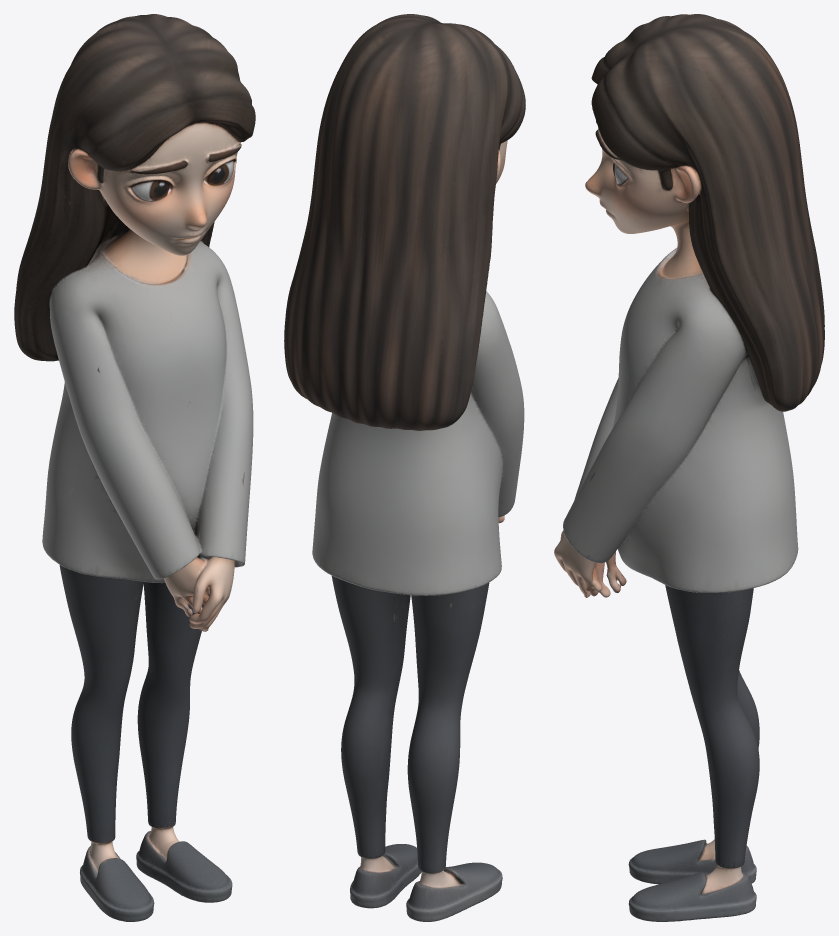
The model's file is neglected_part.glb.
The picture shows the model from 3 angles, left to right: view 1: azimuth 30°, elevation 25°; view 2: azimuth 150°, elevation 25°; view 3: azimuth 270°, elevation 25°; orthographic projection.
Bounding box in the file's own units: 0.4512 × 2 × 0.5653.
Materials: 1 (1 with a texture image).
